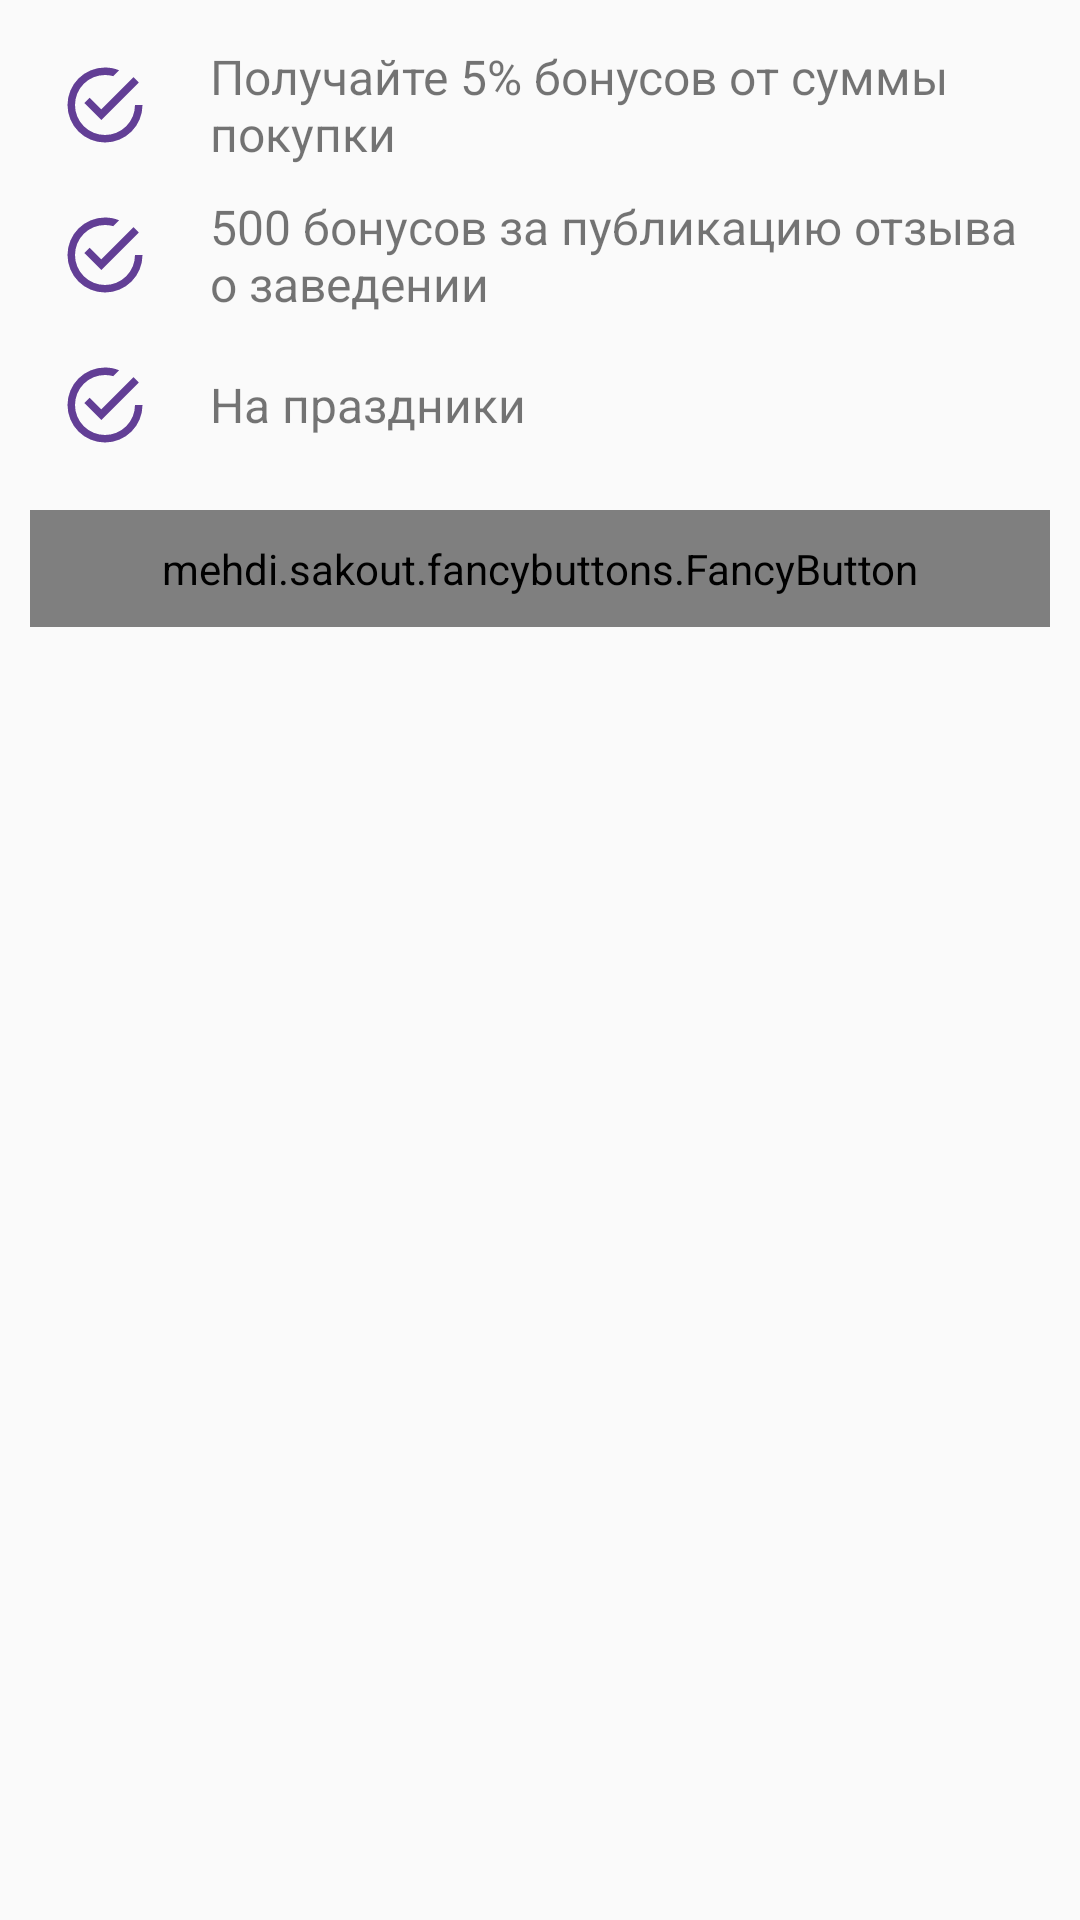

Icon bounding boxes for this 1080 × 1920 phone screenshot, format (x1, y1, x2, y2):
checkbox marked circle: (67, 67, 143, 143), (67, 217, 143, 293), (67, 367, 143, 443)
